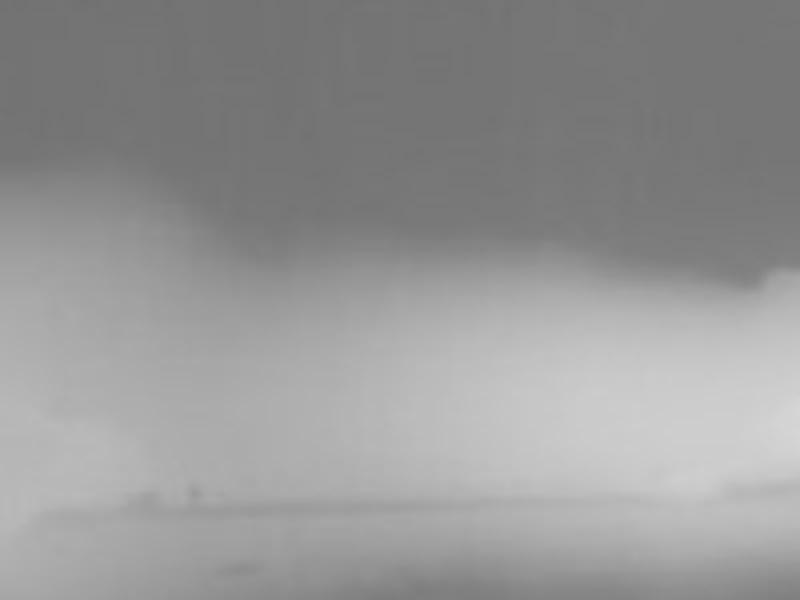defect: (187, 483, 206, 507)
